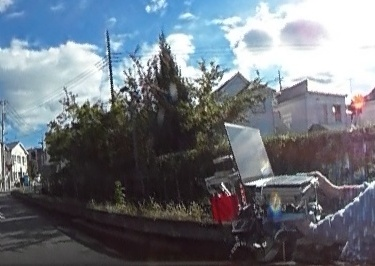person: (292, 35, 375, 258)
